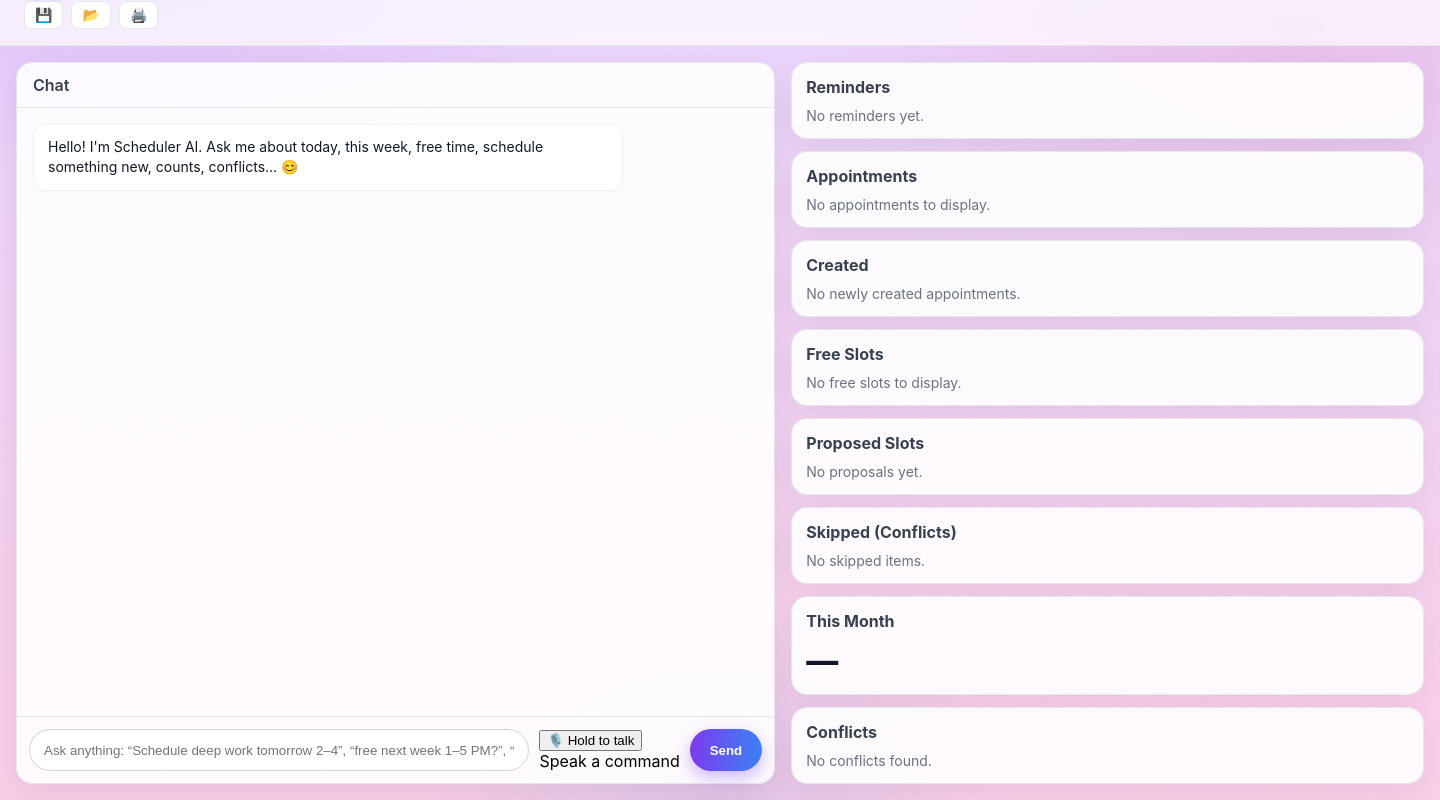
Test: clicking a create-flow button does not crash (regression for handleButtonClick scoping bug)
(page scrolled)
In the field with placeholder "Ask anything": (279, 750) x1=29 y1=729 x2=529 y2=771, type "create appointment"
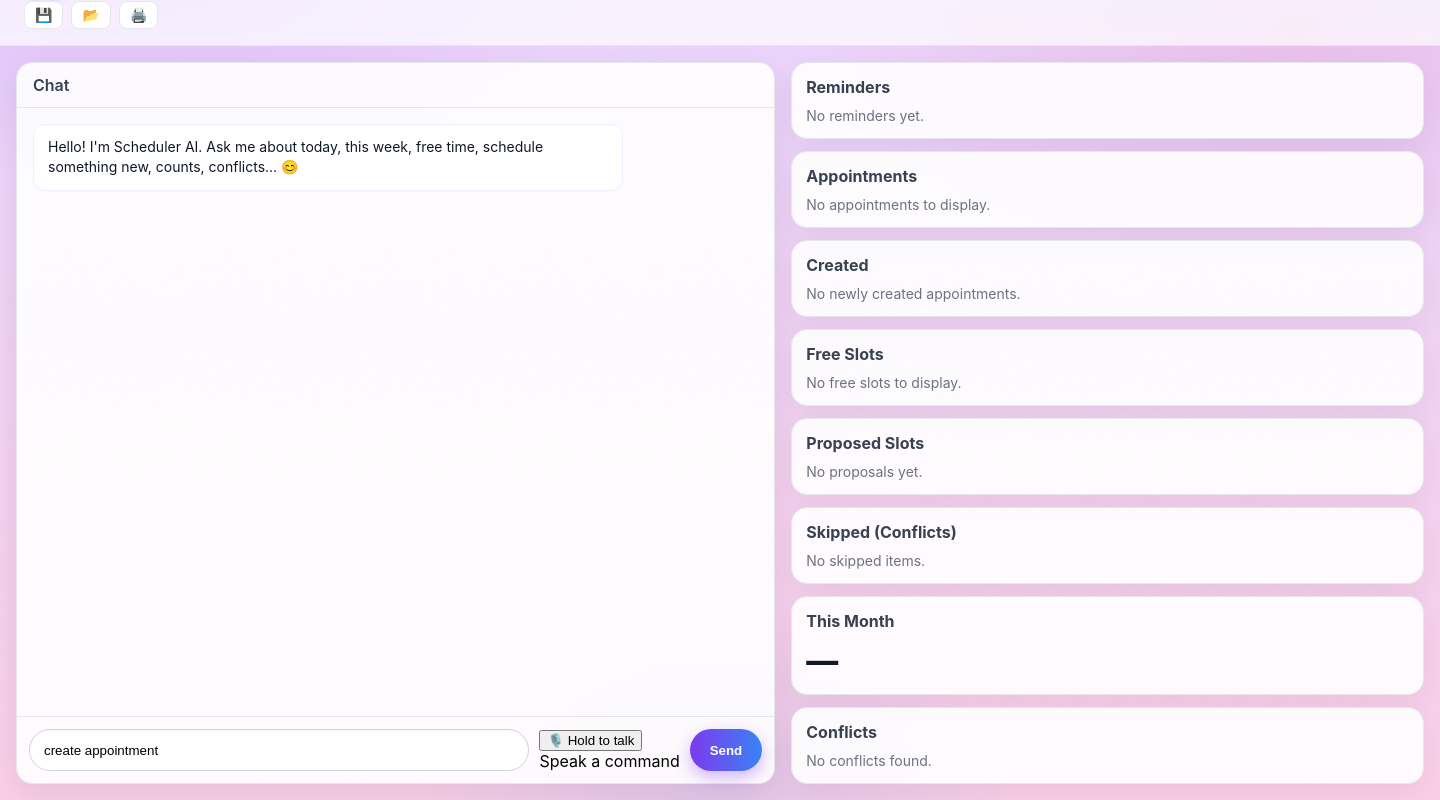
Click the button "Send": click(726, 750) x1=690 y1=729 x2=762 y2=771
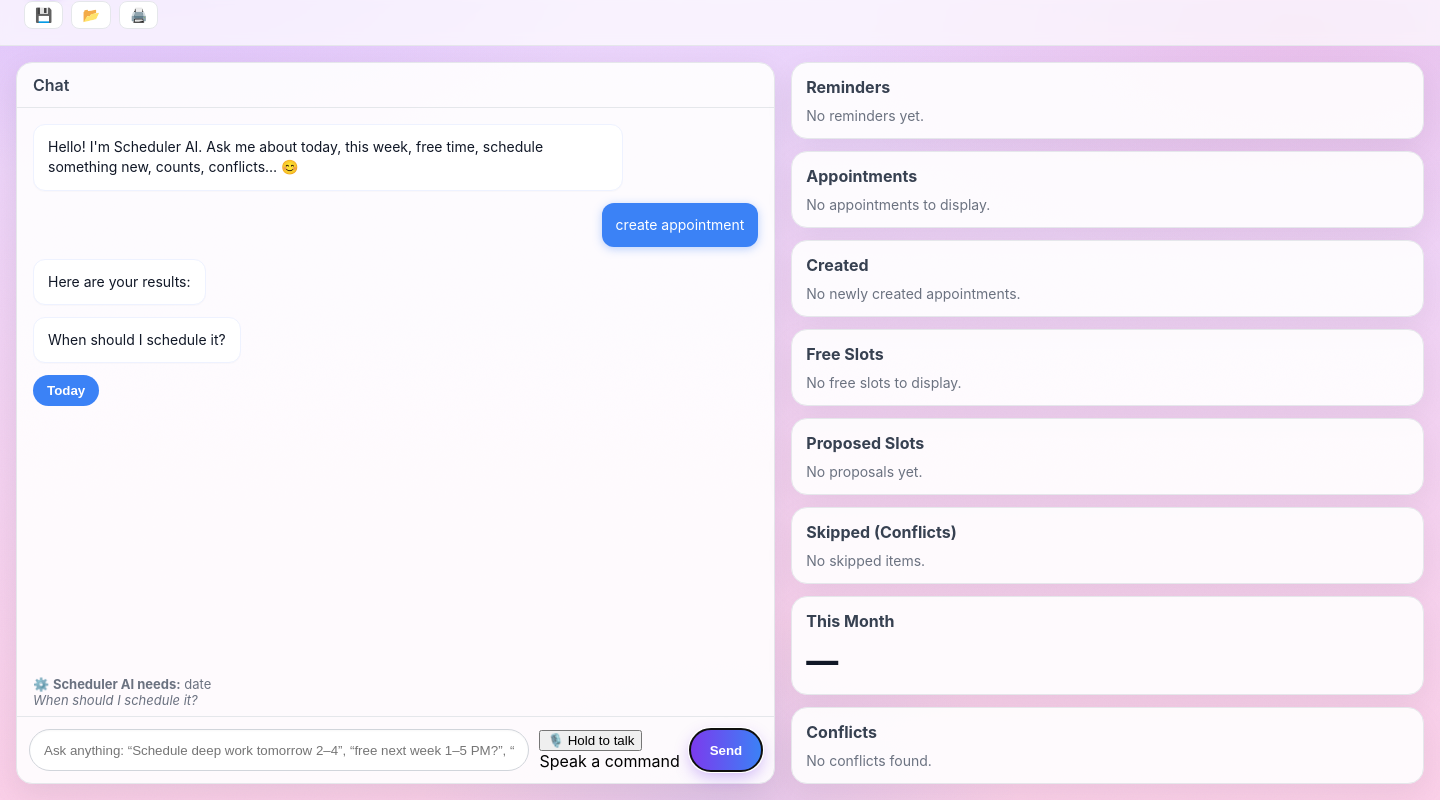
Click the button "Today": click(66, 391) x1=33 y1=376 x2=99 y2=406
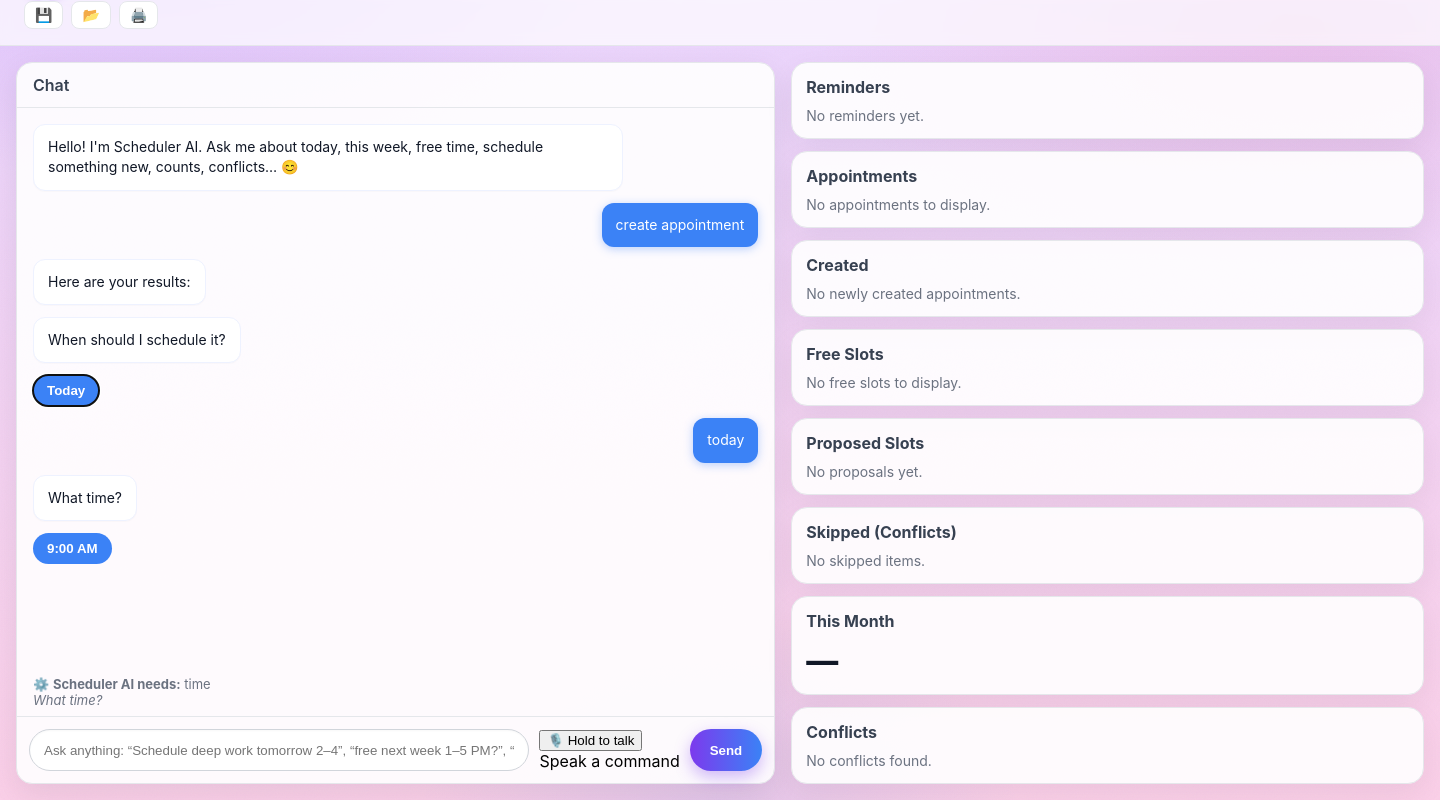
Now the button "9:00 AM" is shown, box x1=33 y1=533 x2=112 y2=564
